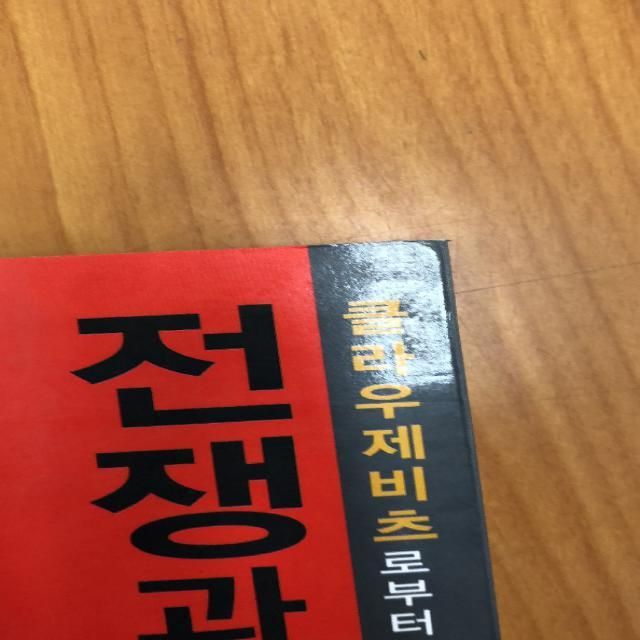Wornout: (277, 235, 454, 251), (0, 250, 94, 269)
